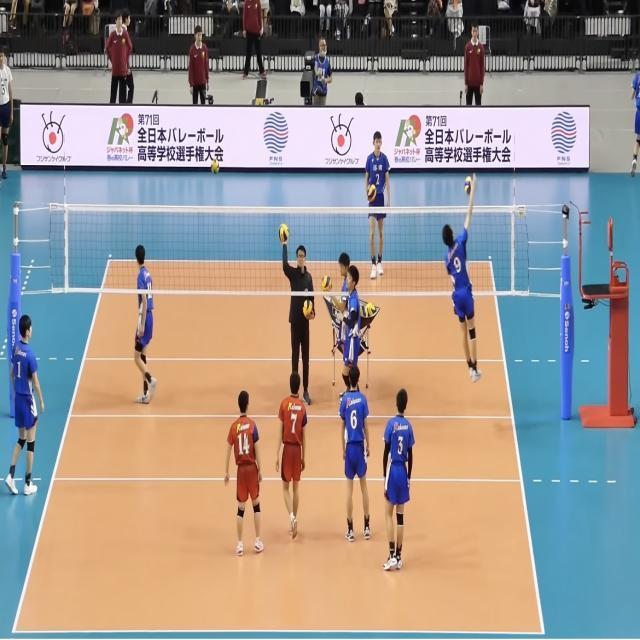spike: (441, 171, 491, 386)
